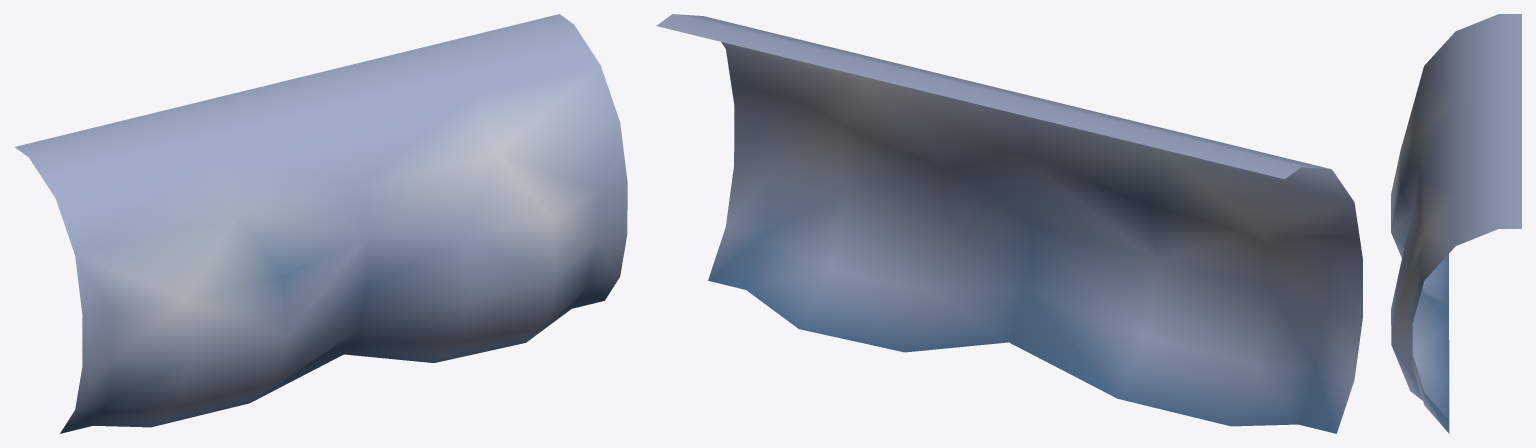
Rendered from Surface_FrontUp00.fbx.
3 views of the same model, side by side, from view 1: azimuth 30°, elevation 25°; view 2: azimuth 150°, elevation 25°; view 3: azimuth 270°, elevation 25° (orthographic). The views are drawn at different scales.
Visible parts, largest first — view 1: Surface_FrontUp00; view 2: Surface_FrontUp00; view 3: Surface_FrontUp00.
Boxes of the visible parts, x1=… form: Surface_FrontUp00: x1=15, y1=14, x2=627, y2=433; Surface_FrontUp00: x1=656, y1=14, x2=1362, y2=433; Surface_FrontUp00: x1=1391, y1=14, x2=1521, y2=433.
Size of the model in its own units: 2000 by 970 by 515.
